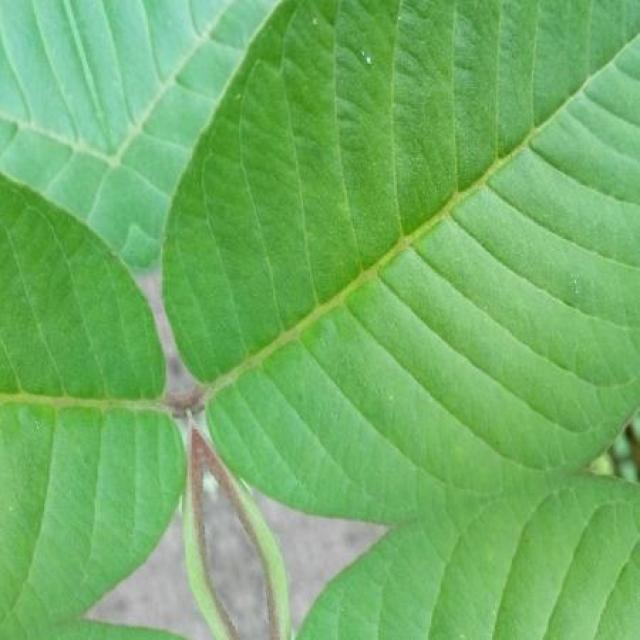Disease Free: (165, 0, 640, 522), (0, 176, 182, 639), (299, 478, 640, 639)
